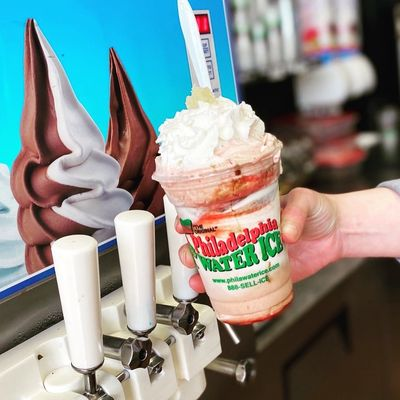pizza: (153, 95, 295, 328)
